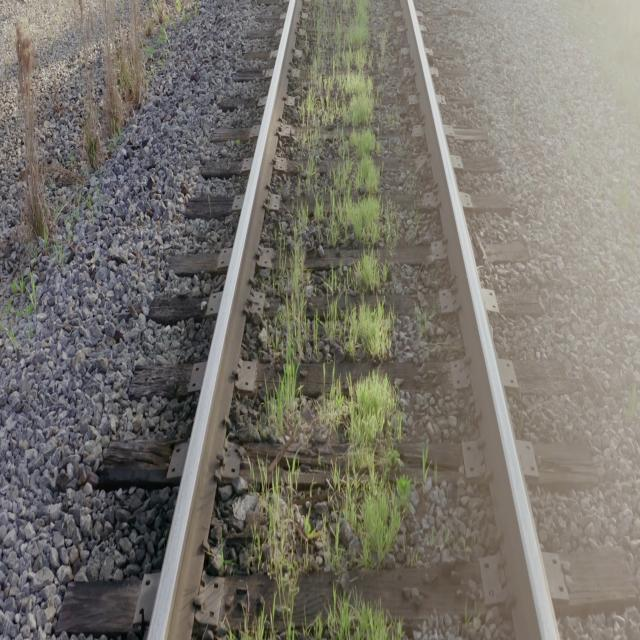Plant: (258, 213, 411, 638), (300, 0, 398, 360), (304, 587, 401, 640), (241, 604, 276, 638)
